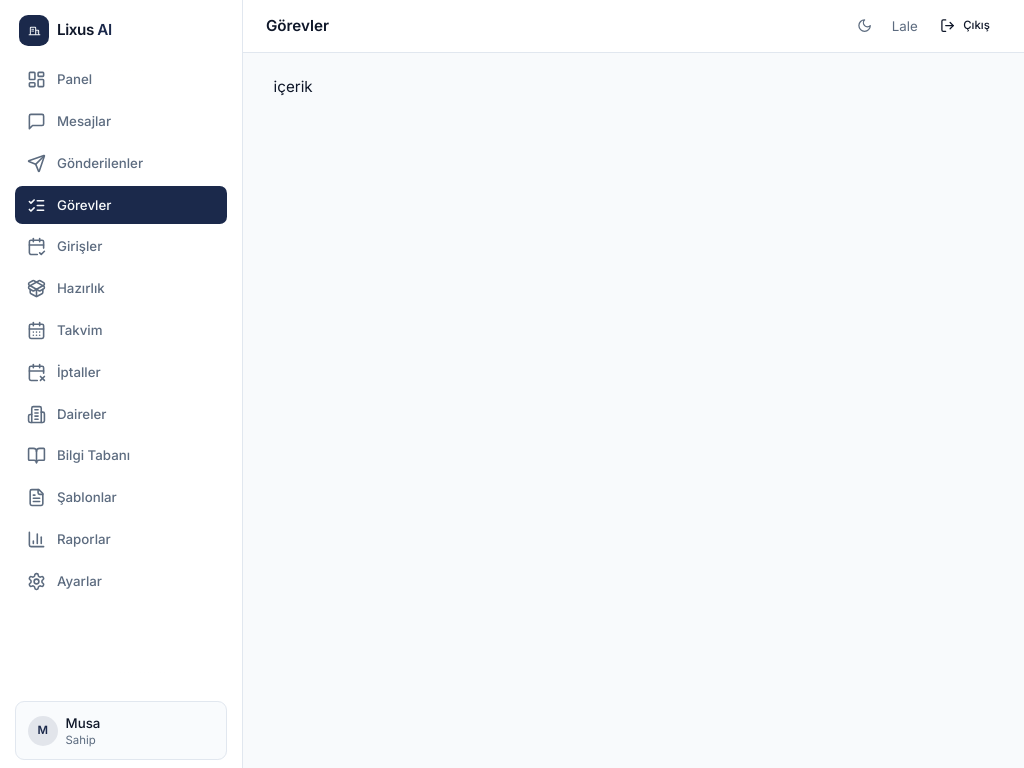
it: AppShell — çıkış başarısız olduğunda SEBEBİ söylenir › 500'de yönlendirme YOK, hata mesajı VAR (buton sessizce geri açılmaz)
Click the button "Çıkış" at (965, 26), box left=929, top=11, right=1001, bottom=41
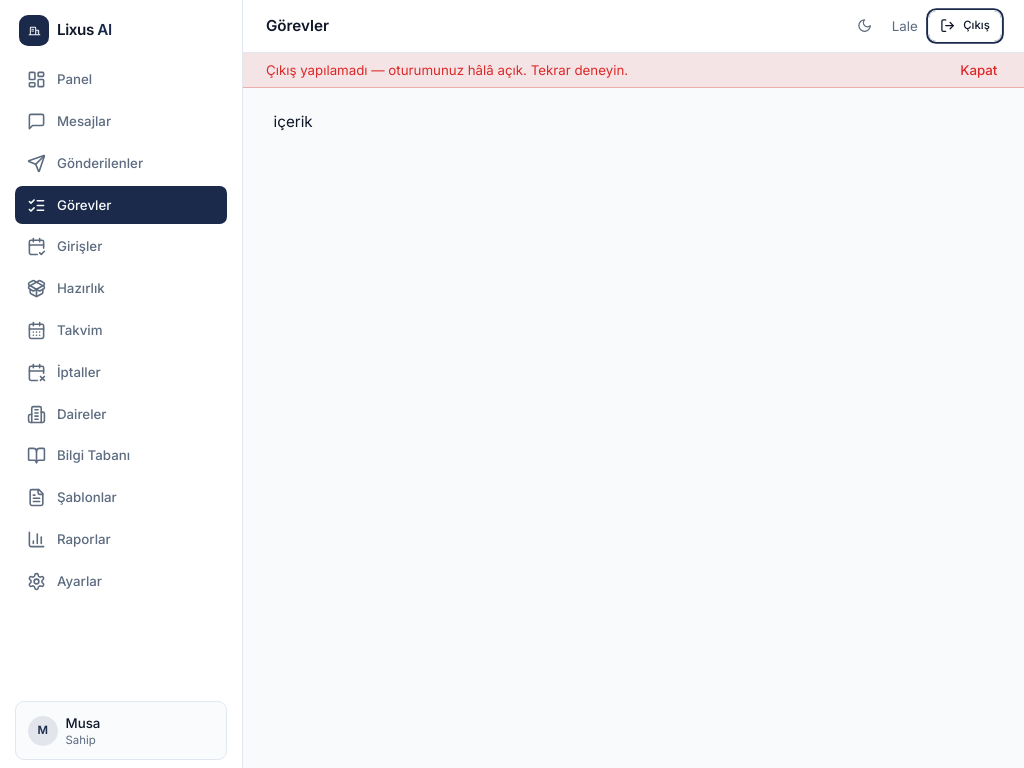
expect the message shows "Çıkış yapılamadı": met, box left=266, top=62, right=628, bottom=78
